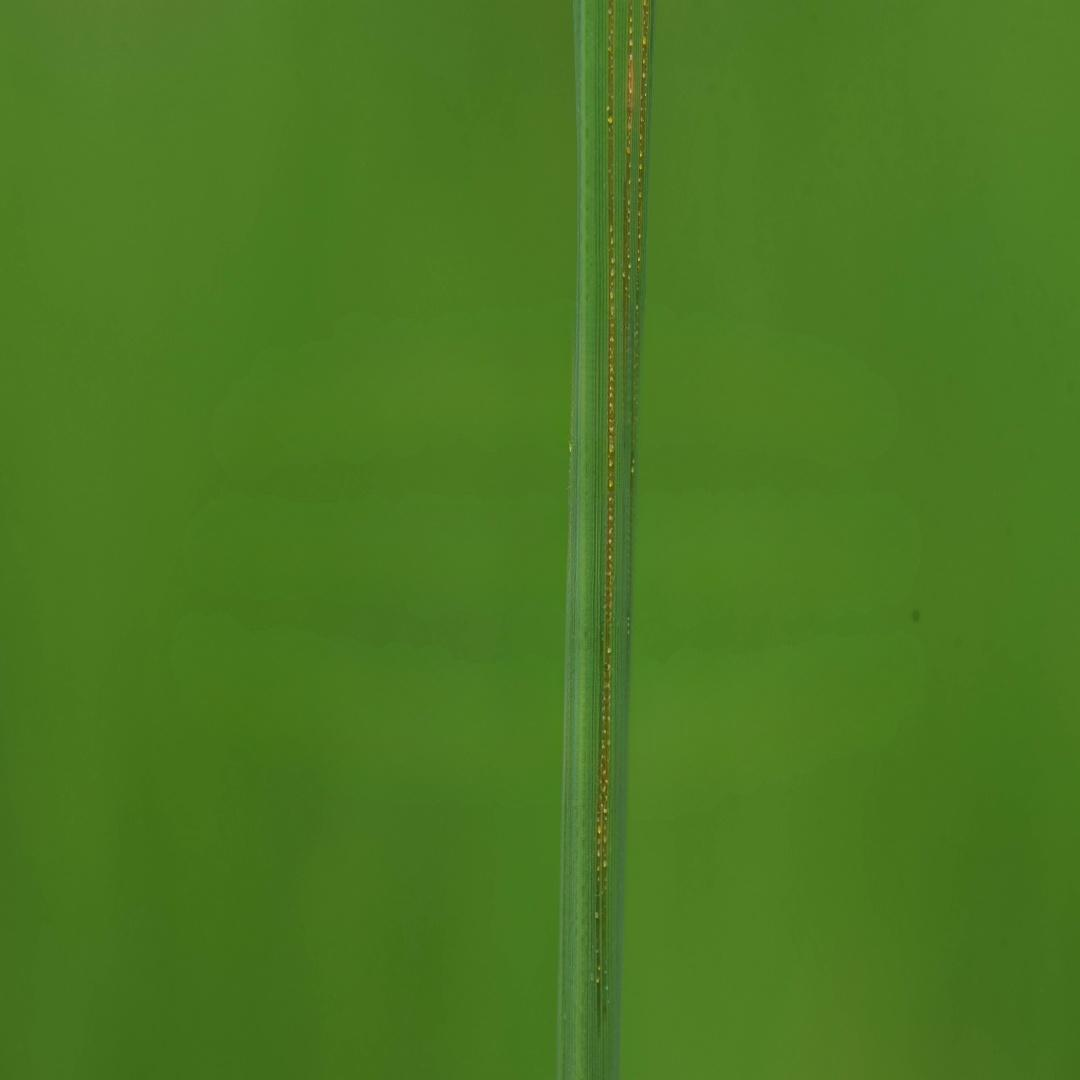BLS: (594, 0, 617, 1010), (630, 0, 650, 478), (622, 0, 634, 418)
LEAF: (557, 0, 655, 1079)
